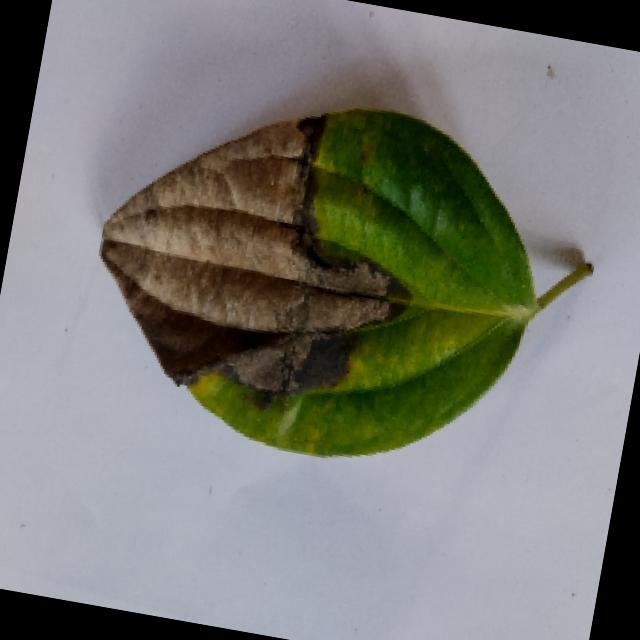footrot: (74, 59, 616, 500)
